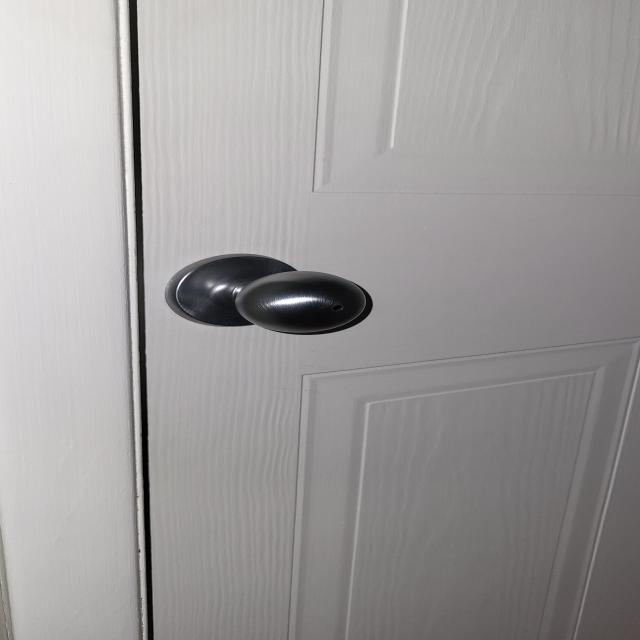door-knob: (165, 254, 368, 334)
